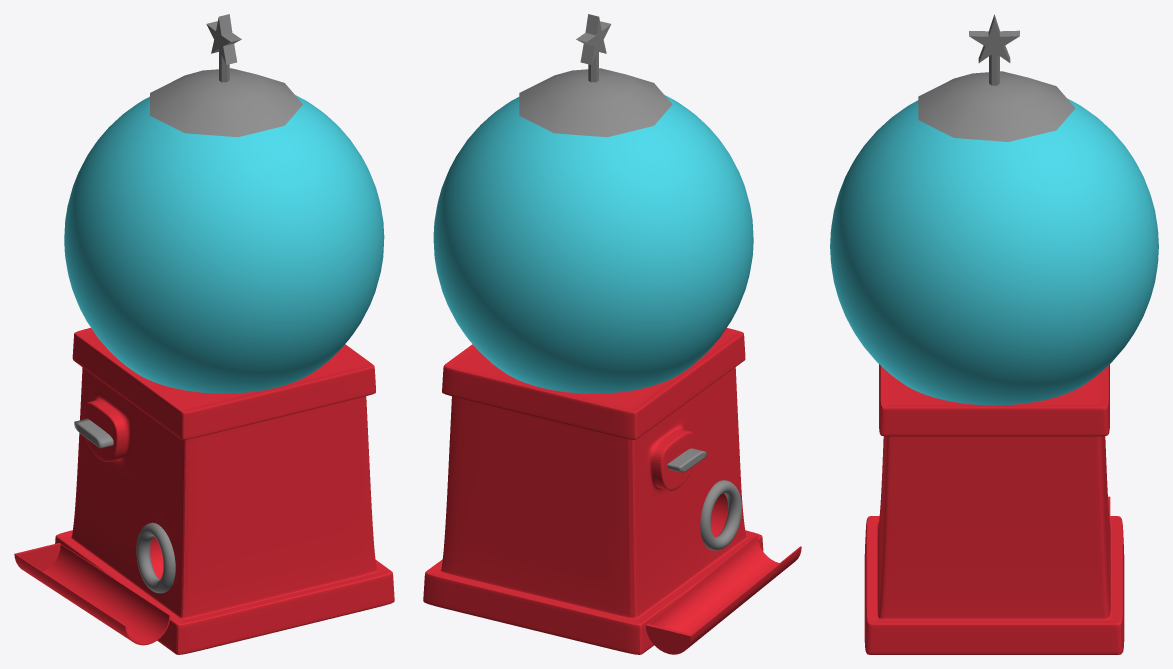
Rendered from gatcha.fbx.
3 renders of one model, left to right at view 1: azimuth 30°, elevation 25°; view 2: azimuth 150°, elevation 25°; view 3: azimuth 270°, elevation 25°, orthographic. The views are drawn at different scales.
Parts seen in each view (by area): view 1: GlassBall, Machine, Pole, Tray, ExitFrame, Handle; view 2: GlassBall, Machine, Pole, Tray, ExitFrame, Handle; view 3: GlassBall, Machine, Pole.
Part boxes in pixels (<box>): GlassBall: <box>64,95,384,393</box>; Machine: <box>55,328,394,654</box>; Pole: <box>150,14,302,137</box>; Tray: <box>14,543,170,645</box>; ExitFrame: <box>136,522,175,593</box>; Handle: <box>74,418,113,448</box>; GlassBall: <box>433,95,753,393</box>; Machine: <box>423,328,763,654</box>; Pole: <box>519,14,672,137</box>; Tray: <box>645,535,801,654</box>; ExitFrame: <box>700,480,741,550</box>; Handle: <box>667,448,706,472</box>; GlassBall: <box>830,98,1158,405</box>; Machine: <box>864,364,1124,654</box>; Pole: <box>918,14,1075,141</box>.
Bounding box in the file's own units: 1293 × 2406 × 1227.
